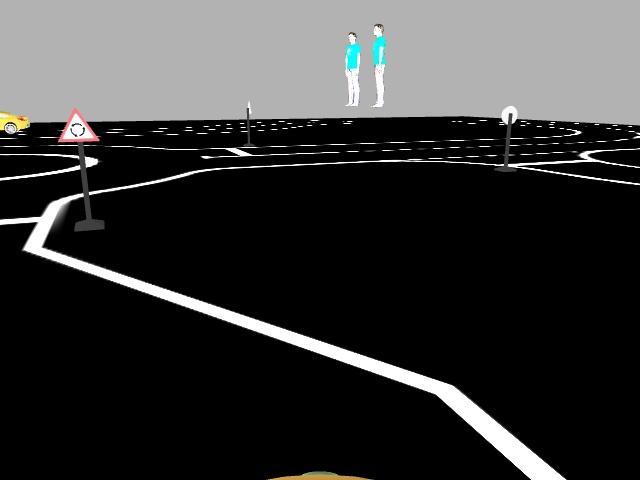Roundabout: (55, 105, 99, 142)
